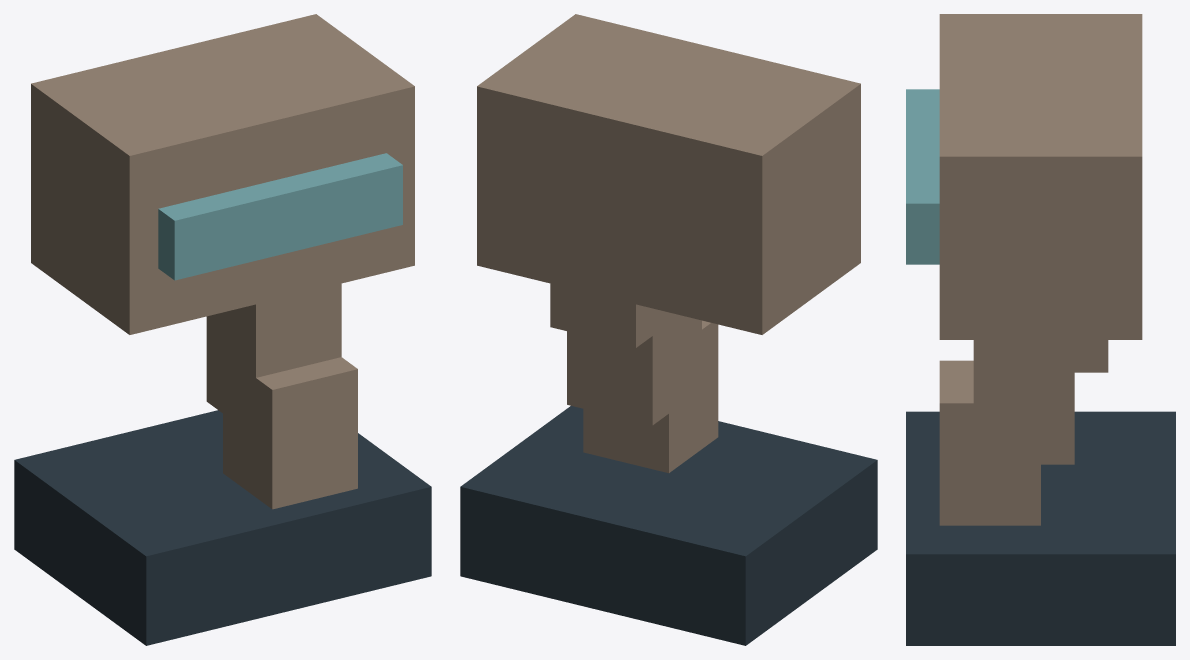
Rendered from legal-17.glb.
The picture shows the model from 3 angles, left to right: view 1: azimuth 30°, elevation 25°; view 2: azimuth 150°, elevation 25°; view 3: azimuth 270°, elevation 25°; orthographic projection. The views are drawn at different scales.
Parts seen in each view (by area): view 1: Document scanner; view 2: Document scanner; view 3: Document scanner.
Part boxes in pixels (x1,y1,x2,y2): Document scanner: [14, 14, 431, 645]; Document scanner: [460, 14, 877, 645]; Document scanner: [906, 14, 1175, 645].
Bounding box in the file's own units: 0.8 × 1.28 × 0.64.
